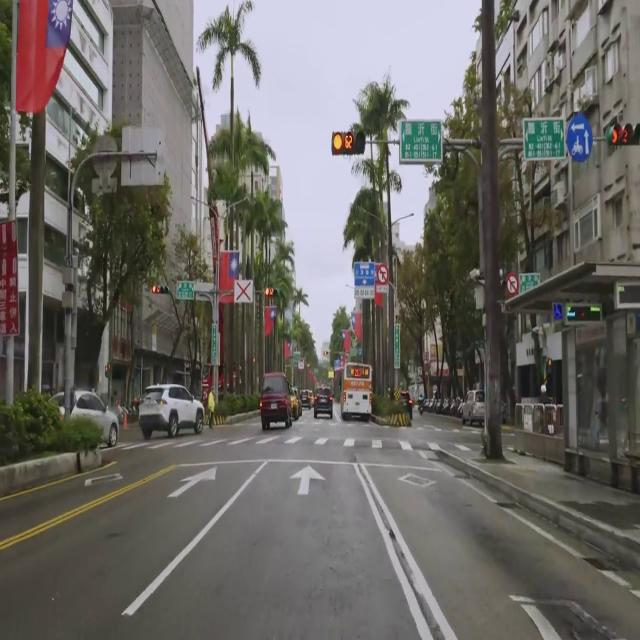red light: (331, 129, 365, 155), (151, 284, 169, 296), (265, 286, 279, 297)
